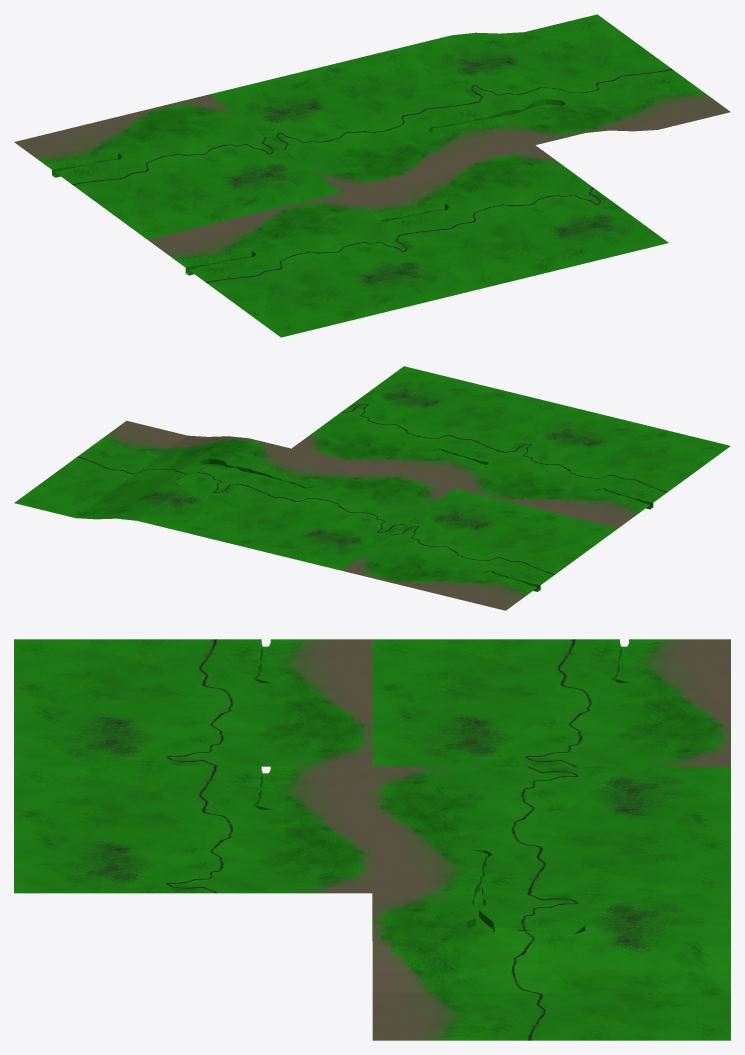
File: mLv1BackgroundGround.obj
3 views of the same model, one above another, from view 1: azimuth 30°, elevation 25°; view 2: azimuth 150°, elevation 25°; view 3: azimuth 270°, elevation 25° (orthographic). The views are drawn at different scales.
Visible parts, largest first — view 1: mBackgroundGround; view 2: mBackgroundGround; view 3: mBackgroundGround.
Boxes of the visible parts, box(x1,y1,x2,y2) form: mBackgroundGround: box(14, 14, 730, 337); mBackgroundGround: box(14, 366, 730, 610); mBackgroundGround: box(14, 639, 730, 1040).
Bounding box in the file's own units: 1257 × 30.08 × 997.
1 material, 1 textured.
